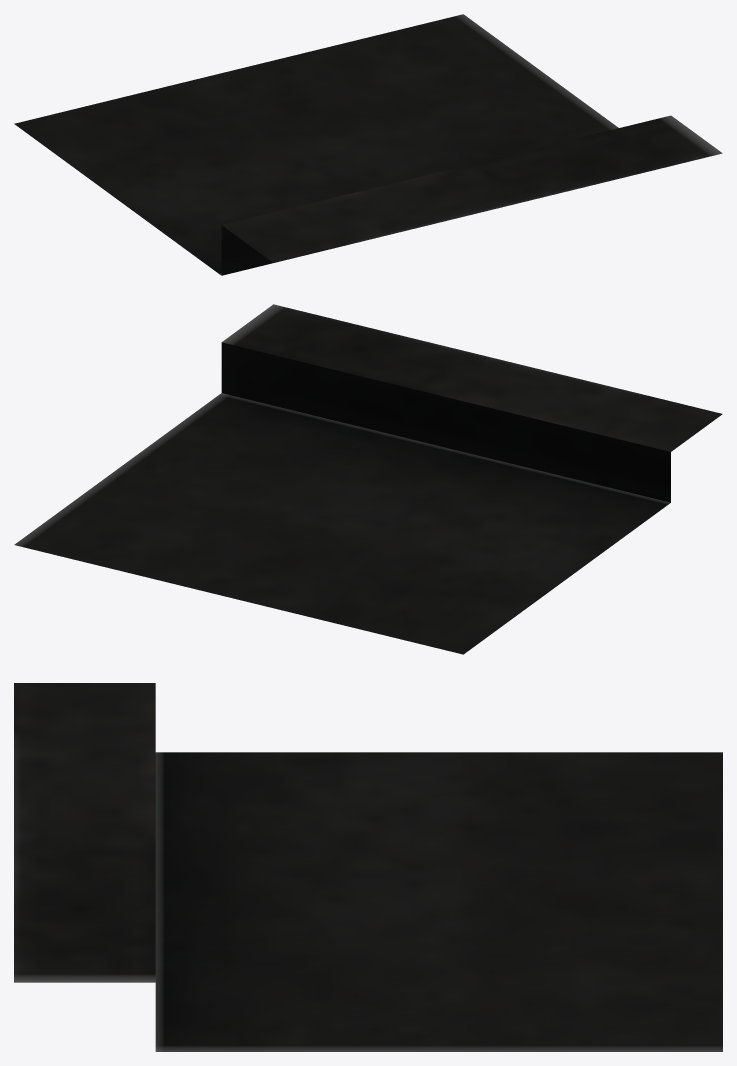
File: Roof_SidePart.FBX
3 views of the same model, one above another, from view 1: azimuth 30°, elevation 25°; view 2: azimuth 150°, elevation 25°; view 3: azimuth 270°, elevation 25° (orthographic). The views are drawn at different scales.
Parts seen in each view (by area): view 1: Roof_SidePart; view 2: Roof_SidePart; view 3: Roof_SidePart.
Boxes of the visible parts, <box> form: Roof_SidePart: <box>14,14,722,275</box>; Roof_SidePart: <box>14,304,722,654</box>; Roof_SidePart: <box>14,683,722,1051</box>.
Size of the model in its own units: 4 by 0.4311 by 4.
